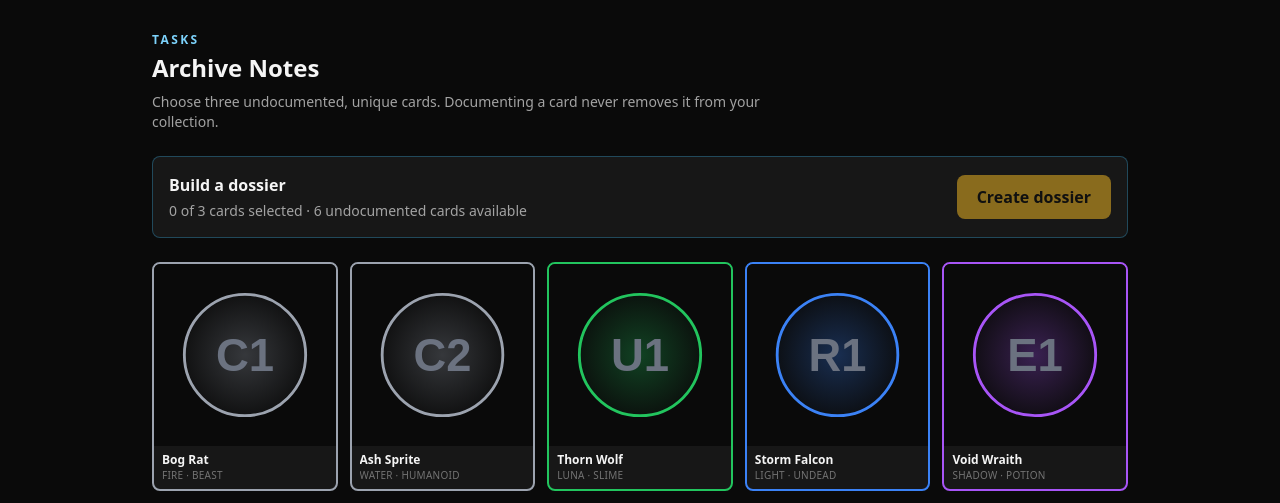
Test: ArchiveNotesPage › requires exactly three undocumented cards before creating a dossier
Check: the text "Build a dossier" is shown, box 169,174 -> 286,196
Check: the button "Create dossier" is disabled, box 957,175 -> 1111,219
Click the button "Bog Rat fire · beast": (245, 376) 152,262 -> 338,491
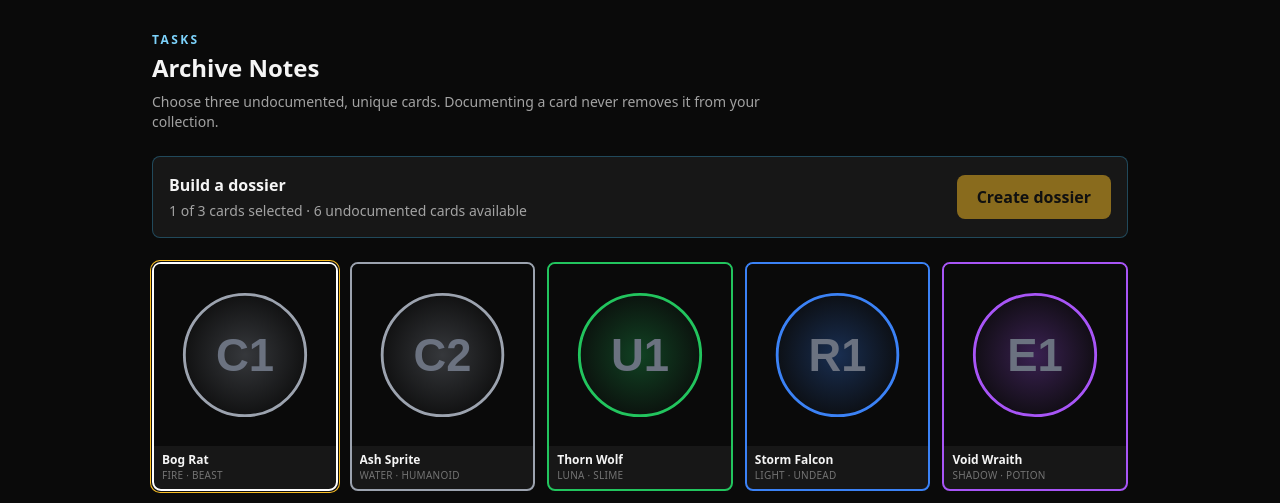
Click the button "Ash Sprite water · humanoid": (442, 376) 350,262 -> 535,491
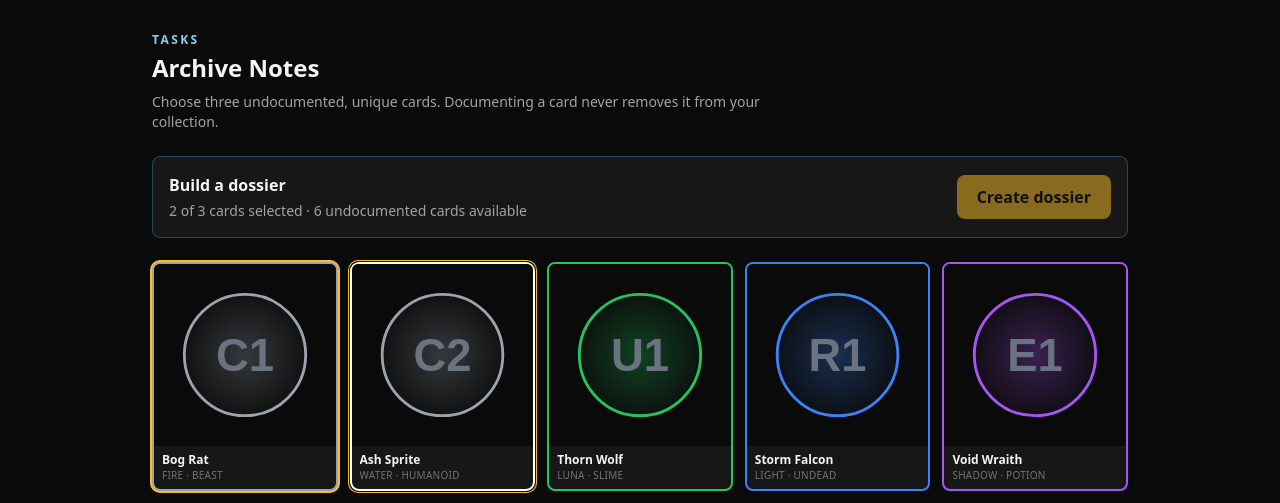
Click the button "Thorn Wolf luna · slime": (640, 376) 547,262 -> 733,491
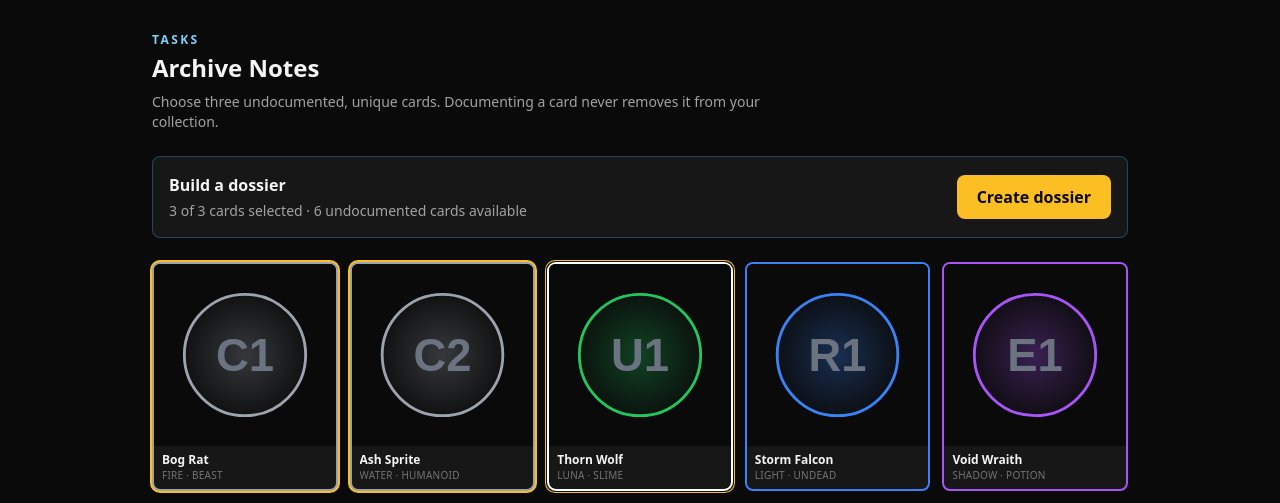
Check: the button "Storm Falcon light · undead" is disabled, box 745,262 -> 930,491
Check: the button "Create dossier" is enabled
Click the button "Create dossier": (1034, 197) 957,175 -> 1111,219
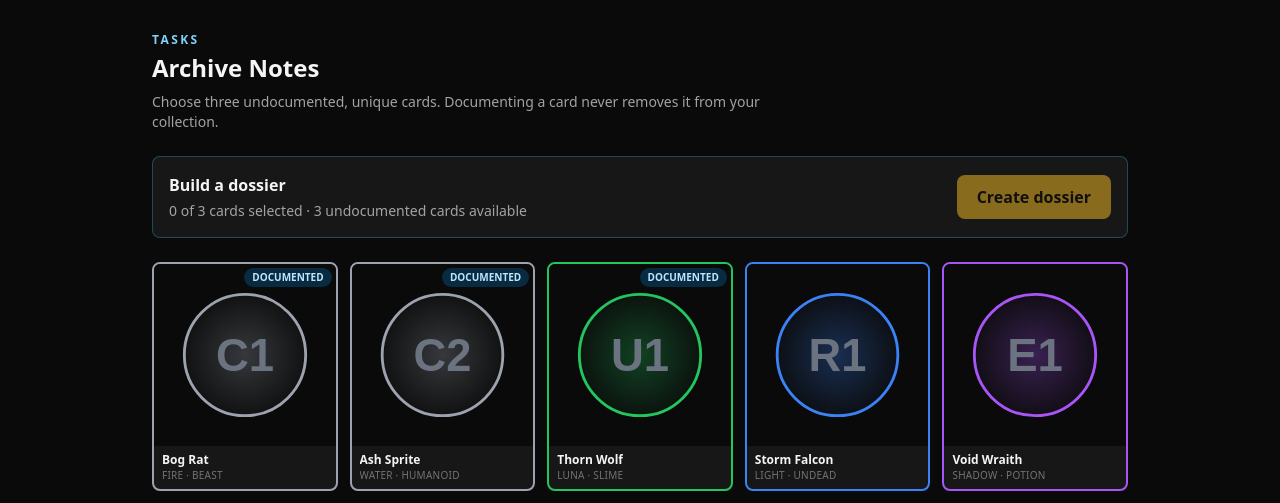
Check: the button "DOCUMENTED Bog Rat fire · beast" is disabled, box 152,262 -> 338,491
Check: the text "0 of 3 cards selected · 3 undocumented cards available" is shown, box 169,201 -> 527,221
